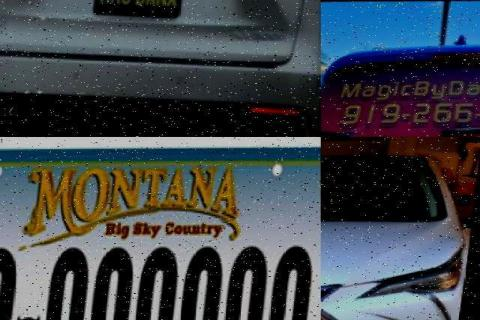LicensePlate: (0, 236, 321, 320), (96, 0, 190, 28)
